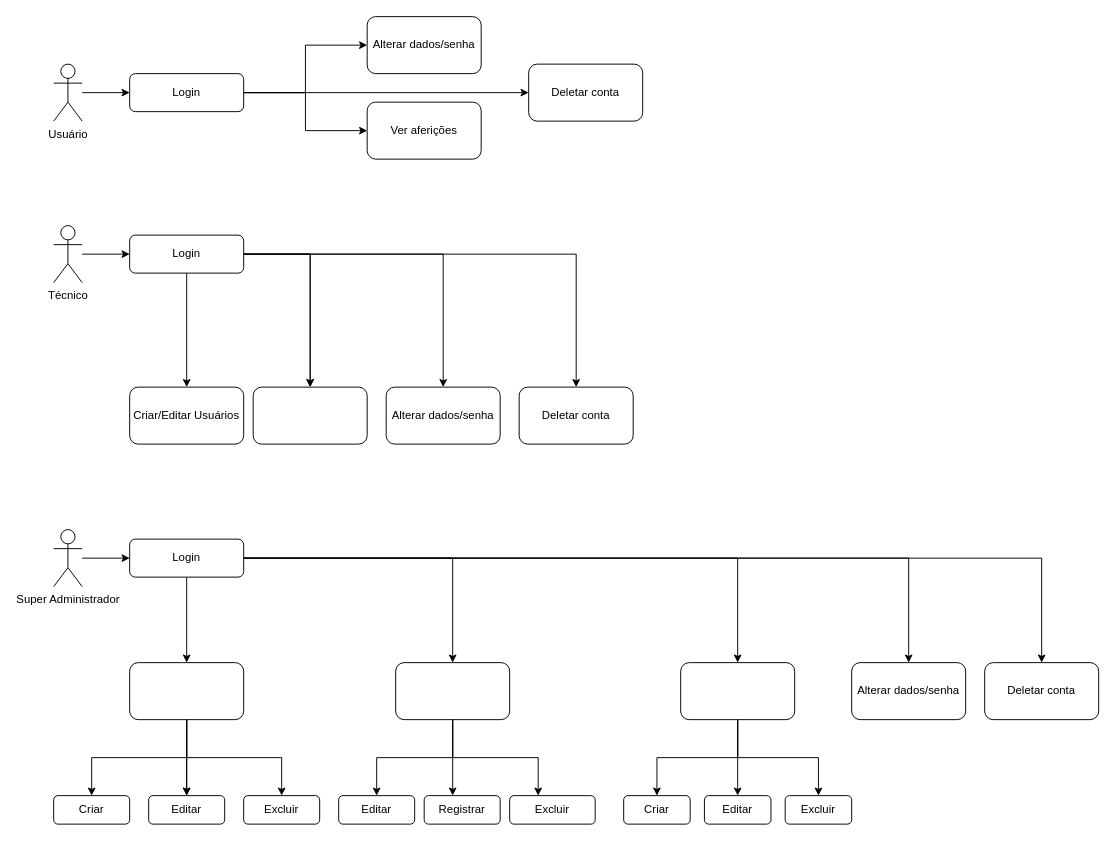
This 1115x841 diagram has some shape labels left out. The shapes that lost their labels are listed below. From the top down, each one's centre as x and y in pixels, then its label:
At (309,415): "Registar/Editar aferições".
At (186,691): "Manter Usuários".
At (452,691): "Manter Aferições".
At (737,691): "Manter Papeis/Permissões".
